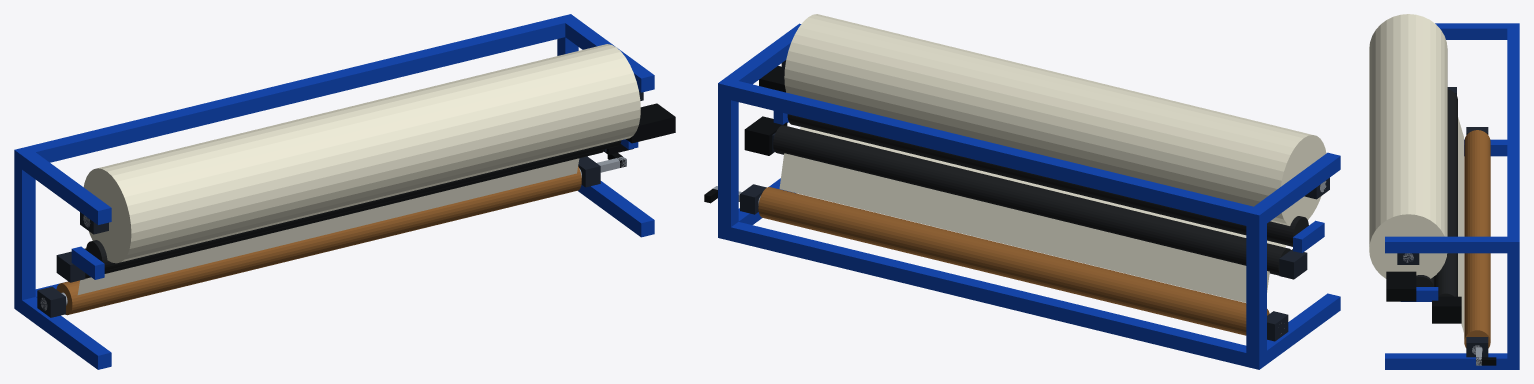
File: fabric_roll_meter_40kg.obj
3 renders of one model, left to right at view 1: azimuth 30°, elevation 25°; view 2: azimuth 150°, elevation 25°; view 3: azimuth 270°, elevation 25°, orthographic. The views are drawn at different scales.
Parts seen in each view (by area): view 1: supply_roll, base_rear, takeup_core, fabric_takeup, pressure_roller, base_left, rear_post_0, front_post_0, front_post_1610, measuring_roller, rear_post_1610, counter_display (+4 smaller); view 2: supply_roll, fabric_takeup, takeup_core, measuring_roller, base_rear, base_front, pressure_roller, base_left, base_right, rear_post_0, front_post_0, fabric_feed (+6 smaller); view 3: supply_roll, takeup_core, base_rear, measuring_roller, rear_post_1610, front_post_1610, base_right, rear_post_0, fabric_takeup, counter_display, encoder_mount, bearing_takeup_1595 (+6 smaller).
Boxes of the visible parts, x1,y1,x2,y2 form: supply_roll: (83, 44, 640, 263); base_rear: (14, 14, 578, 169); takeup_core: (56, 166, 581, 315); fabric_takeup: (77, 158, 579, 294); pressure_roller: (86, 140, 621, 271); base_left: (14, 164, 35, 300); rear_post_0: (22, 152, 111, 224); front_post_0: (22, 297, 111, 369); front_post_1610: (578, 181, 654, 237); measuring_roller: (84, 149, 604, 278); rear_post_1610: (565, 19, 654, 92); counter_display: (626, 103, 675, 143); supply_roll: (784, 14, 1326, 225); fabric_takeup: (779, 153, 1269, 302); takeup_core: (758, 187, 1269, 335); measuring_roller: (773, 125, 1290, 275); base_rear: (718, 78, 1266, 228); base_front: (718, 222, 1266, 369); pressure_roller: (787, 114, 1308, 246); base_left: (1246, 224, 1266, 355); base_right: (718, 97, 738, 227); rear_post_0: (1254, 152, 1340, 223); front_post_0: (1267, 293, 1340, 363); fabric_feed: (800, 127, 1286, 247); supply_roll: (1369, 14, 1447, 278); takeup_core: (1464, 130, 1490, 348); base_rear: (1507, 23, 1519, 253); measuring_roller: (1434, 89, 1457, 296); rear_post_1610: (1385, 236, 1507, 253); front_post_1610: (1385, 353, 1507, 369); base_right: (1507, 253, 1519, 358); rear_post_0: (1435, 23, 1507, 39); fabric_takeup: (1458, 117, 1463, 332); counter_display: (1386, 271, 1416, 301); encoder_mount: (1432, 296, 1461, 323); bearing_takeup_1595: (1466, 337, 1488, 357).
Size of the model in its own units: 1735 by 515 by 480.
